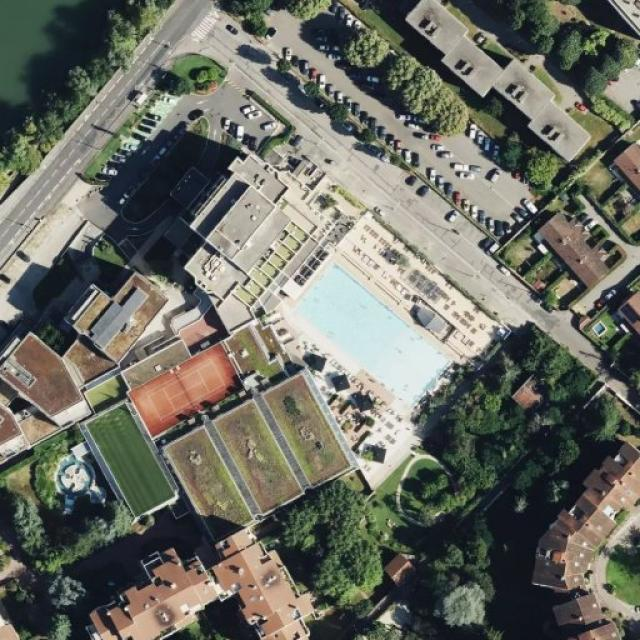immeuble: (187, 370, 347, 535), (180, 147, 292, 290), (532, 437, 639, 584), (82, 551, 212, 640), (212, 539, 320, 640), (68, 274, 164, 368), (0, 331, 80, 416), (554, 583, 619, 639), (438, 34, 489, 102), (534, 98, 587, 160), (489, 59, 546, 116), (409, 4, 462, 55), (0, 409, 30, 451)
maison: (529, 212, 606, 292), (382, 548, 422, 590), (609, 144, 640, 194), (626, 294, 640, 332)
piscine: (289, 250, 444, 404), (41, 448, 115, 521), (590, 318, 609, 341)
